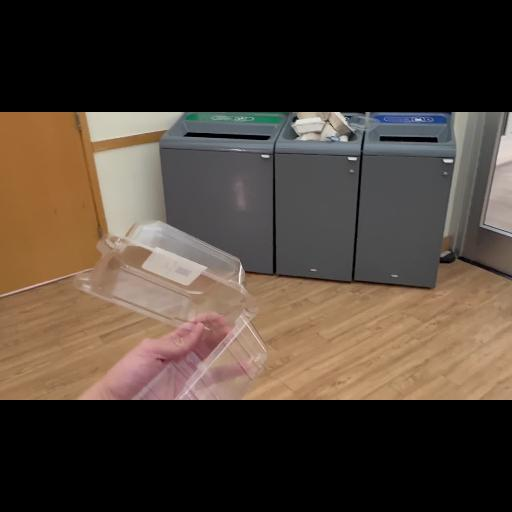small_plastic_container: (62, 216, 266, 400)
